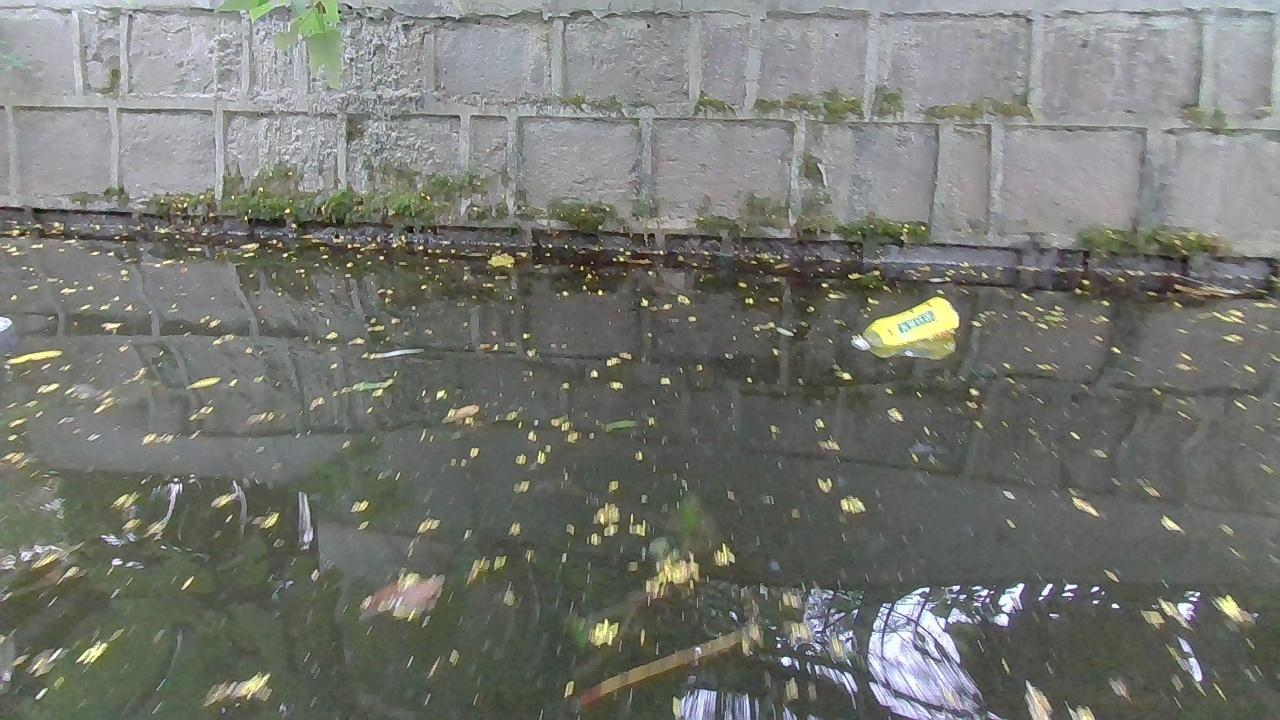bottle: (852, 295, 962, 352)
